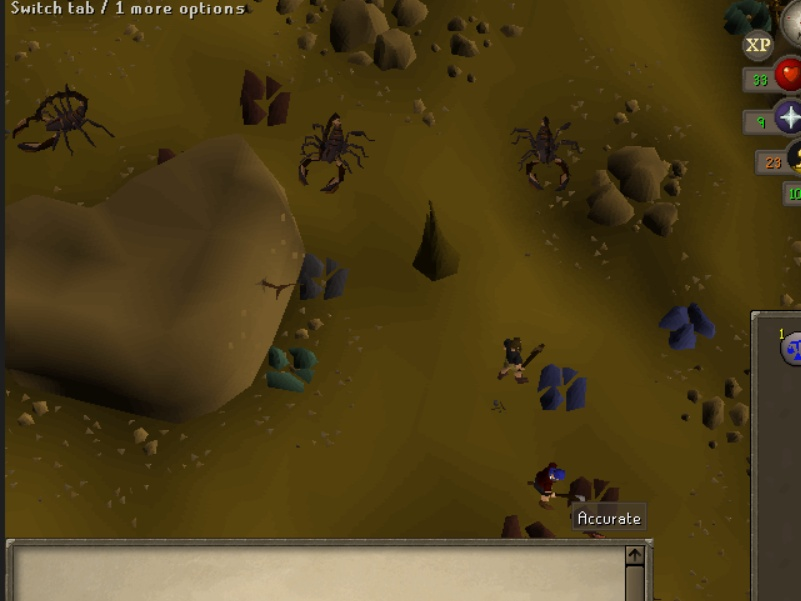adamant: (262, 332, 322, 399), (721, 1, 782, 37)
iron: (235, 64, 294, 129), (566, 464, 625, 529), (497, 511, 555, 538)
mithril: (534, 360, 593, 416), (661, 300, 720, 356)
